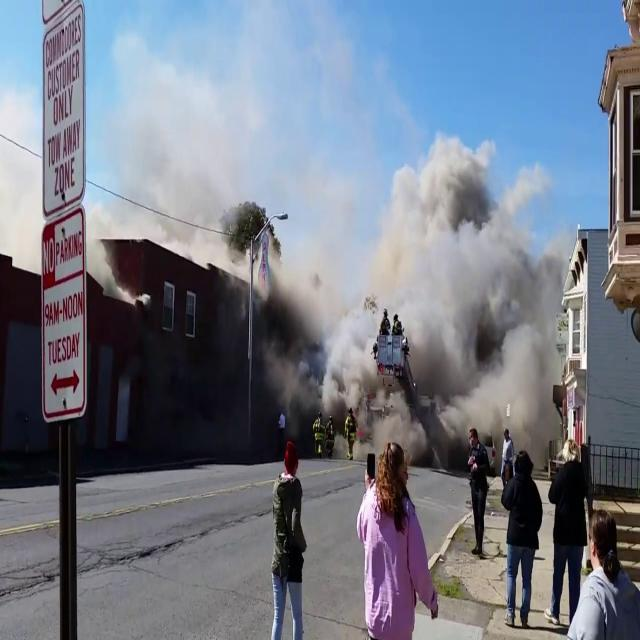Smoke: (276, 114, 564, 447), (369, 122, 567, 462)
